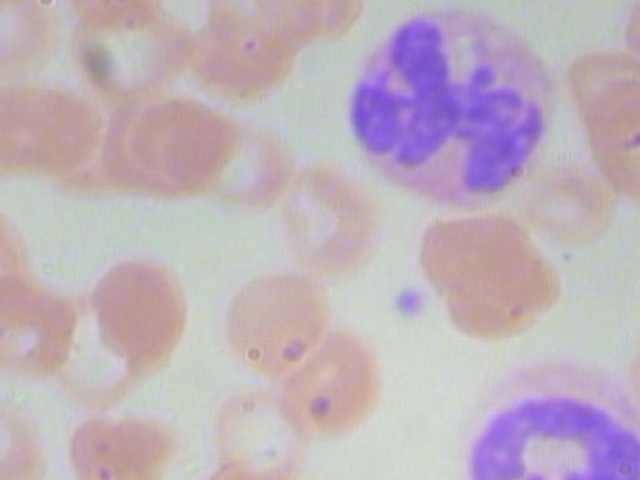Platelets: (391, 284, 433, 321)
WBC: (329, 0, 571, 213), (432, 355, 640, 480)
